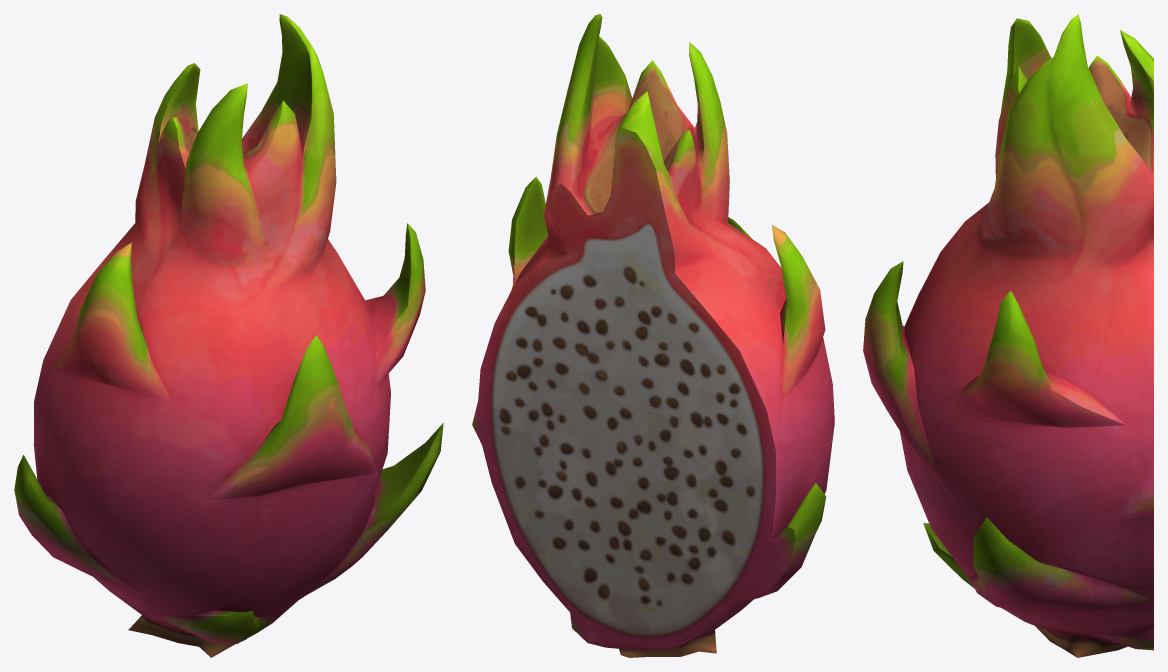
File: SM_PitayaCutA.fbx
3 views of the same model, side by side, from view 1: azimuth 30°, elevation 25°; view 2: azimuth 150°, elevation 25°; view 3: azimuth 270°, elevation 25° (orthographic). The views are drawn at different scales.
Parts seen in each view (by area): view 1: SM_PitayaCutA; view 2: SM_PitayaCutA; view 3: SM_PitayaCutA.
Boxes of the visible parts, left/top/right/bottom form: SM_PitayaCutA: left=14, top=14, right=443, bottom=657; SM_PitayaCutA: left=472, top=14, right=834, bottom=657; SM_PitayaCutA: left=863, top=14, right=1153, bottom=657.
Bounding box in the file's own units: 15.03 × 24.04 × 9.69.
